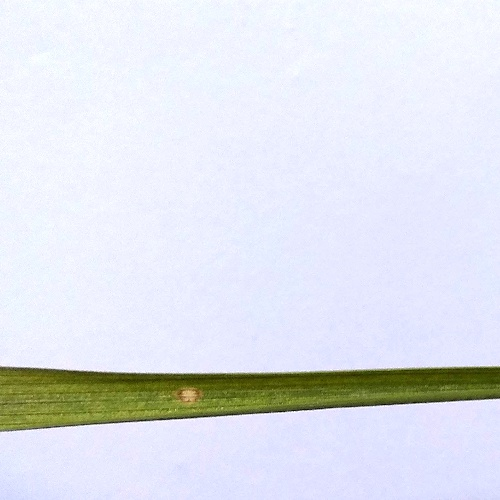Busuk Leher: (174, 383, 206, 410)
